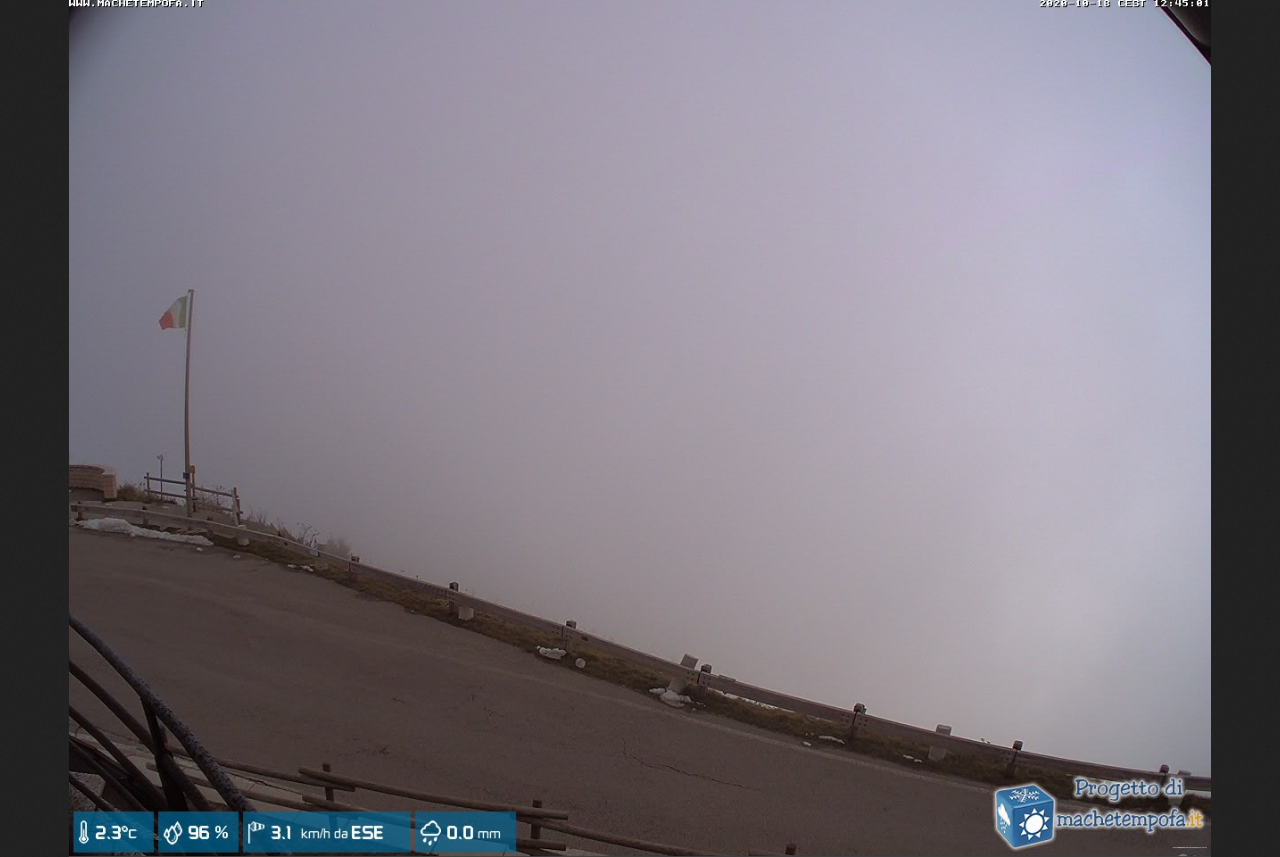yes: (156, 295, 190, 331)
